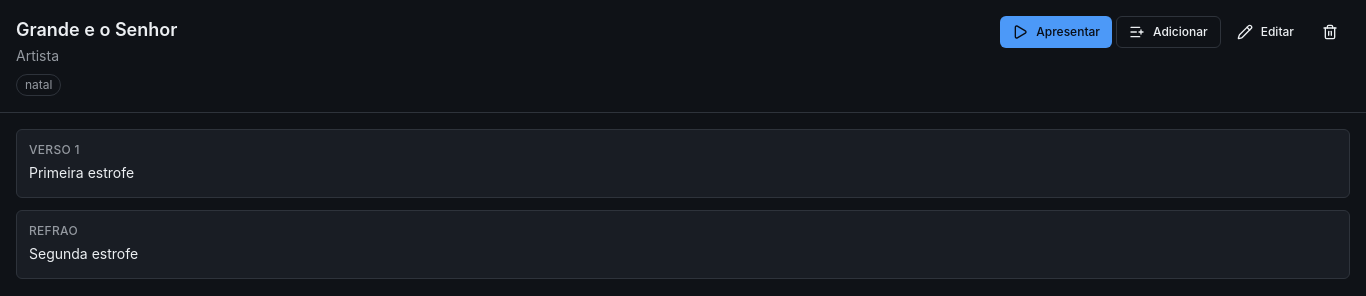
Test case: exclusao › cancelar a confirmacao nao exclui
This screenshot has width=1366, height=296.
Click the button named "Excluir".
click(1330, 32)  # box [1310,16,1350,48]
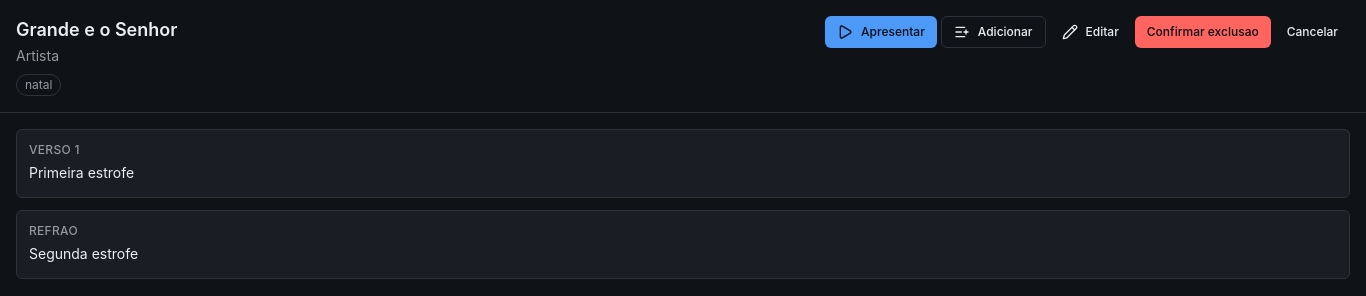
Click the button "Cancelar".
click(1312, 32)  # box [1275,16,1350,48]
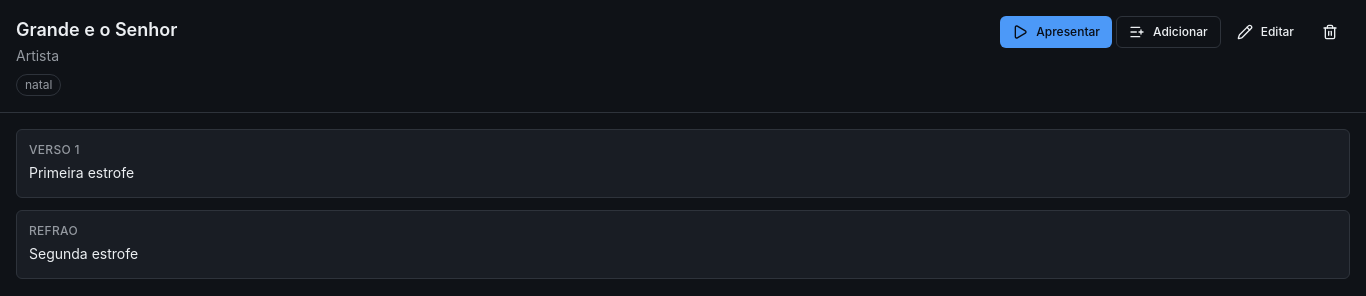
Now the button named "Excluir" is shown, box [1310,16,1350,48]
